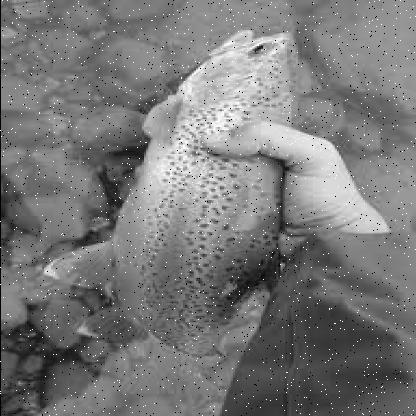fish: (47, 25, 298, 392)
